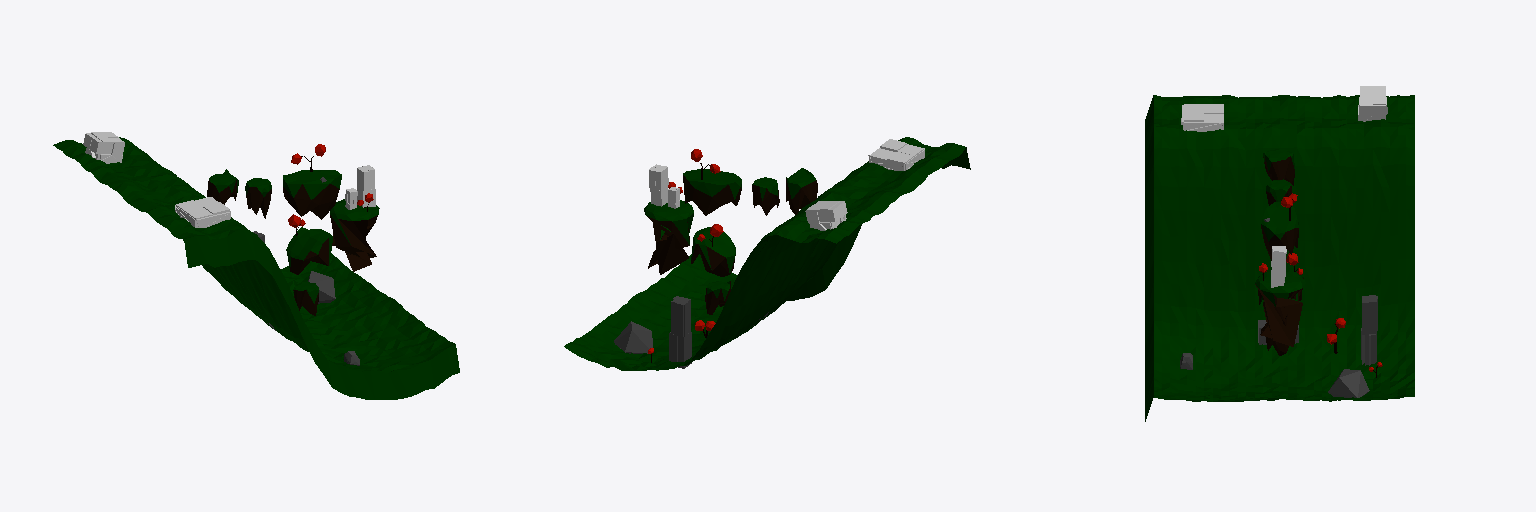
The model's file is dusk_3.obj.
3 renders of one model, left to right at view 1: azimuth 30°, elevation 25°; view 2: azimuth 150°, elevation 25°; view 3: azimuth 270°, elevation 25°, orthographic.
Visible parts, largest first — view 1: Plane, Icosphere, Icosphere.004, Icosphere.003, Cube.009, Cube.008, Icosphere.007_Icosphere.008, Icosphere.008_Icosphere.009, Icosphere.001, Cube.002, Icosphere.006; view 2: Plane, Icosphere, Icosphere.004, Icosphere.003, Cube.001, Cube.009, Icosphere.008_Icosphere.009, Cube.008, Icosphere.006, Icosphere.007_Icosphere.008, Cube.002, Icosphere.001; view 3: Plane, Icosphere, Icosphere.004, Cube.009, Cube.001, Cube.008, Icosphere.008_Icosphere.009, Icosphere.006, Cube.002.
Part boxes in pixels (bbox=[...]): Plane: bbox=[53, 137, 459, 399]; Icosphere: bbox=[330, 199, 379, 271]; Icosphere.004: bbox=[283, 170, 341, 219]; Icosphere.003: bbox=[286, 227, 332, 274]; Cube.009: bbox=[175, 197, 230, 227]; Cube.008: bbox=[83, 132, 124, 163]; Icosphere.007_Icosphere.008: bbox=[245, 178, 271, 218]; Icosphere.008_Icosphere.009: bbox=[207, 169, 238, 204]; Icosphere.001: bbox=[293, 281, 318, 315]; Cube.002: bbox=[357, 165, 375, 207]; Icosphere.006: bbox=[308, 271, 335, 303]; Plane: bbox=[564, 137, 970, 370]; Icosphere: bbox=[644, 200, 693, 274]; Icosphere.004: bbox=[683, 169, 741, 215]; Icosphere.003: bbox=[691, 227, 735, 276]; Cube.001: bbox=[669, 296, 691, 368]; Cube.009: bbox=[868, 139, 924, 170]; Icosphere.008_Icosphere.009: bbox=[786, 168, 817, 214]; Cube.008: bbox=[805, 201, 847, 230]; Icosphere.006: bbox=[614, 321, 652, 353]; Icosphere.007_Icosphere.008: bbox=[752, 177, 779, 215]; Cube.002: bbox=[649, 164, 668, 206]; Icosphere.001: bbox=[705, 281, 730, 314]; Plane: bbox=[1145, 95, 1414, 421]; Icosphere: bbox=[1255, 271, 1305, 346]; Icosphere.004: bbox=[1261, 202, 1298, 260]; Cube.009: bbox=[1181, 104, 1223, 131]; Cube.001: bbox=[1361, 295, 1377, 365]; Cube.008: bbox=[1358, 86, 1387, 121]; Icosphere.008_Icosphere.009: bbox=[1263, 149, 1294, 185]; Icosphere.006: bbox=[1328, 369, 1369, 397]; Cube.002: bbox=[1271, 246, 1286, 287].
Bounding box in the file's own units: 15.89 × 12.54 × 13.57.